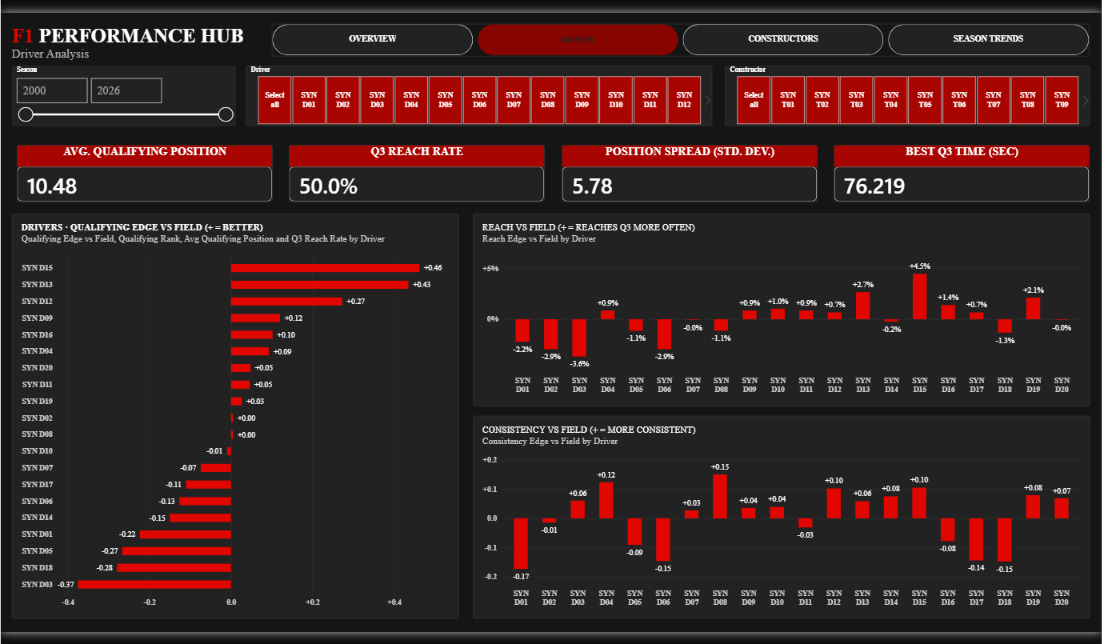

The dashboard page shown, as its layout file describes it:
{"tool":"powerbi","page":{"name":"DRIVERS","canvas":[1920,1080],"ordinal":1},"visuals":[{"type":"textbox","box":[19.2,19.2,453.5,73.3],"z":10},{"type":"pageNavigator","box":[473.3,20,1426.7,56.7],"z":30},{"type":"slicer","fields":{"Values":["DimSeason.year"]},"box":[20,91.7,390,105],"z":40},{"type":"slicer","fields":{"Values":["DimDriver.Driver"]},"box":[426.7,91.7,813.3,105],"z":50},{"type":"slicer","fields":{"Values":["DimConstructor.Constructor"]},"box":[1263.3,91.7,636.7,105],"z":60},{"type":"cardVisual","title":"AVG. QUALIFYING POSITION","fields":{"Data":["Qualifying.Avg Qualifying Position"]},"box":[28.3,230,446,100],"z":80},{"type":"cardVisual","title":"Q3 REACH RATE","fields":{"Data":["Qualifying.Q3 Reach Rate"]},"box":[501.7,230,446,100],"z":100},{"type":"cardVisual","title":"POSITION SPREAD (STD. DEV.)","fields":{"Data":["Qualifying.Qualifying Position StdDev"]},"box":[978.3,230,446,100],"z":120},{"type":"cardVisual","title":"BEST Q3 TIME (SEC)","fields":{"Data":["Qualifying.Best Q3 Time"]},"box":[1453.3,230,446,100],"z":140},{"type":"clusteredBarChart","title":"DRIVERS · QUALIFYING EDGE VS FIELD (+ = BETTER) ","fields":{"Category":["DimDriver.Driver"],"Y":["Qualifying.Qualifying Edge vs Field"]},"box":[20,350,780,706.7],"z":150},{"type":"clusteredColumnChart","title":"REACH VS FIELD (+ = REACHES Q3 MORE OFTEN) ","fields":{"Category":["DimDriver.Driver"],"Y":["Qualifying.Q3 Reach Edge vs Field"]},"box":[823.3,350,1076.7,335],"z":160},{"type":"clusteredColumnChart","title":"CONSISTENCY VS FIELD (+ = MORE CONSISTENT) ","fields":{"Category":["DimDriver.Driver"],"Y":["Qualifying.Consistency Edge vs Field"]},"box":[823.3,703.3,1076.7,353.3],"z":170}]}

Visuals, with their boxes on the page's 1920x1080 design canvas (x1, y1, x2, y2). These are canvas units, not pixel positions in the 1102x644 screenshot, which may show the page scaled, cropped or inside an application window:
textbox: 19,19,473,92
pageNavigator: 473,20,1900,77
slicer - DimSeason.year: 20,92,410,197
slicer - DimDriver.Driver: 427,92,1240,197
slicer - DimConstructor.Constructor: 1263,92,1900,197
"AVG. QUALIFYING POSITION" cardVisual: 28,230,474,330
"Q3 REACH RATE" cardVisual: 502,230,948,330
"POSITION SPREAD (STD. DEV.)" cardVisual: 978,230,1424,330
"BEST Q3 TIME (SEC)" cardVisual: 1453,230,1899,330
"DRIVERS · QUALIFYING EDGE VS FIELD (+ = BETTER) " clusteredBarChart: 20,350,800,1057
"REACH VS FIELD (+ = REACHES Q3 MORE OFTEN) " clusteredColumnChart: 823,350,1900,685
"CONSISTENCY VS FIELD (+ = MORE CONSISTENT) " clusteredColumnChart: 823,703,1900,1057
